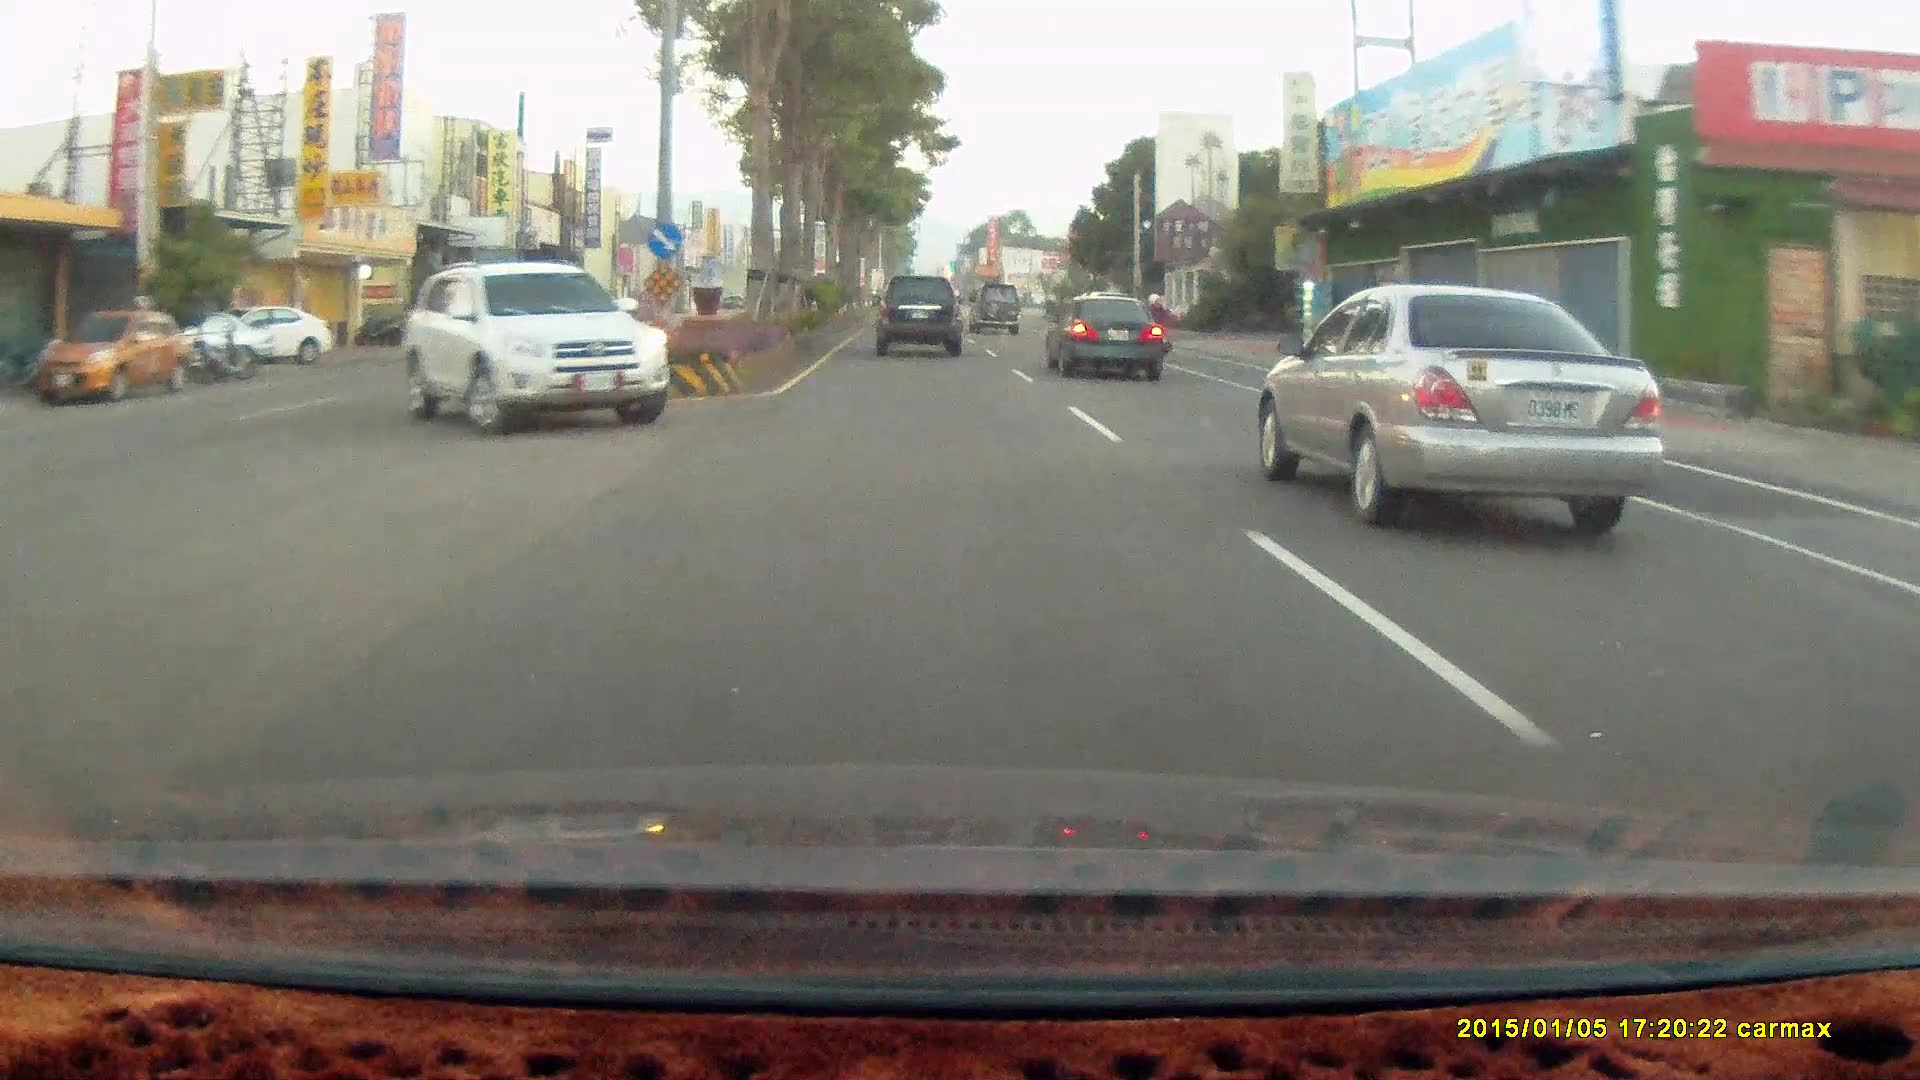vehicle: (1254, 285, 1673, 545), (398, 258, 669, 433), (405, 260, 670, 434), (25, 307, 190, 405), (36, 307, 191, 402), (1043, 291, 1164, 381), (1051, 295, 1170, 382), (195, 303, 334, 368), (203, 302, 335, 367), (877, 276, 969, 361), (876, 277, 963, 357), (971, 282, 1025, 338), (968, 285, 1021, 338)
